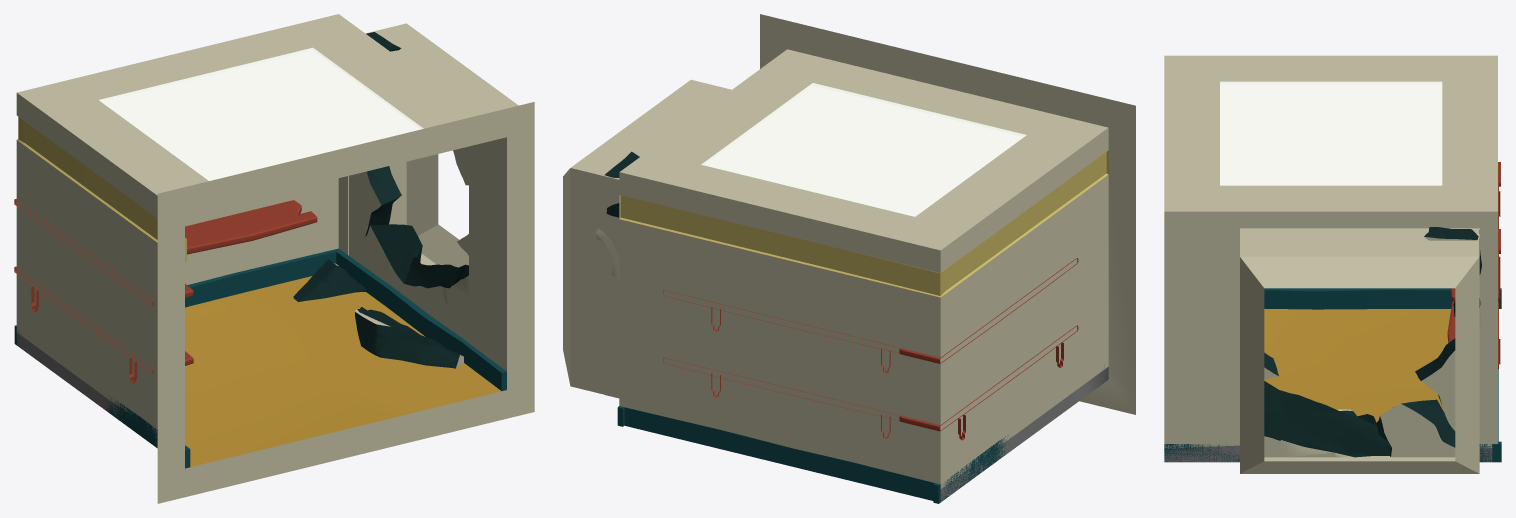
Rendered from konditorei02.dae.
3 renders of one model, left to right at view 1: azimuth 30°, elevation 25°; view 2: azimuth 150°, elevation 25°; view 3: azimuth 270°, elevation 25°, orthographic.
Parts seen in each view (by area): view 1: konditorei; view 2: konditorei; view 3: konditorei.
Part boxes in pixels (x1,y1,x2,y2): konditorei: (14,14,534,503); konditorei: (563,14,1135,503); konditorei: (1164,55,1501,473).
Bounding box in the file's own units: 531 × 368 × 366.
